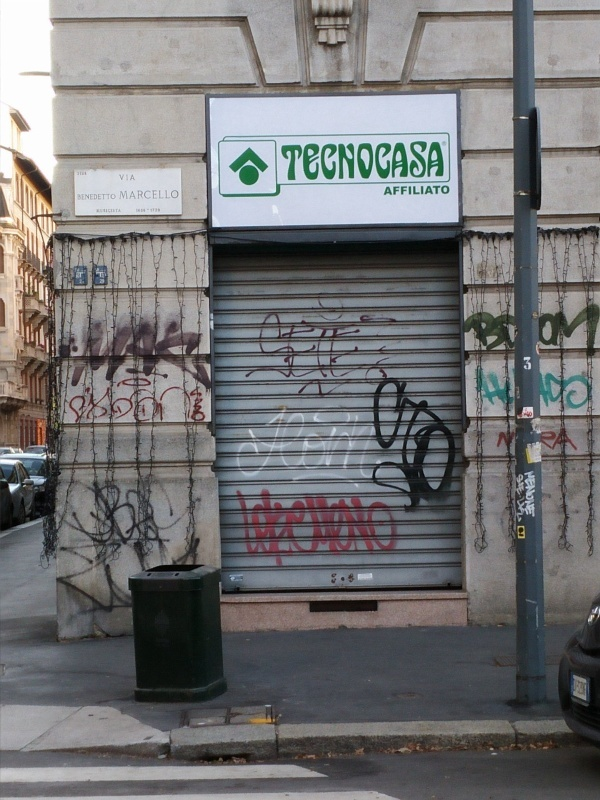text: (385, 360, 400, 521), (401, 360, 416, 521), (417, 360, 432, 521), (433, 360, 448, 521), (449, 360, 461, 521), (97, 458, 112, 551), (113, 458, 128, 551), (129, 458, 144, 551), (145, 458, 160, 551), (161, 458, 176, 551), (177, 458, 192, 551), (193, 458, 207, 551), (241, 489, 256, 570), (257, 489, 272, 570), (273, 489, 288, 570), (289, 489, 304, 570), (305, 489, 320, 570), (321, 489, 336, 570), (337, 489, 352, 570), (353, 489, 368, 570), (369, 489, 384, 570), (97, 316, 112, 392), (113, 316, 128, 392), (129, 316, 144, 392), (145, 316, 160, 392), (161, 316, 176, 392), (177, 316, 192, 392), (193, 316, 208, 392), (385, 489, 399, 570), (257, 407, 272, 482), (273, 407, 288, 482), (289, 407, 304, 482), (305, 407, 320, 482), (321, 407, 336, 482), (337, 407, 352, 482), (353, 407, 368, 482), (369, 407, 384, 482), (242, 407, 256, 482), (273, 312, 288, 381), (289, 312, 304, 381), (305, 312, 320, 381), (321, 312, 336, 381), (337, 312, 352, 381), (545, 303, 560, 358), (561, 303, 576, 358), (577, 303, 592, 358), (353, 312, 364, 381), (81, 379, 96, 426), (97, 379, 112, 426), (113, 379, 128, 426), (129, 379, 144, 426), (145, 379, 160, 426), (161, 379, 176, 426), (177, 379, 192, 426), (262, 312, 272, 381), (193, 379, 206, 426), (88, 316, 96, 392), (289, 142, 304, 182), (305, 142, 320, 182), (321, 142, 336, 182), (337, 142, 352, 182), (353, 142, 368, 182), (369, 142, 384, 182), (385, 142, 400, 182), (401, 142, 416, 182), (417, 142, 432, 182), (481, 368, 496, 408), (497, 368, 512, 408), (545, 372, 560, 410), (561, 372, 576, 410), (577, 372, 592, 410), (465, 314, 480, 351), (481, 314, 496, 351), (497, 314, 512, 351), (517, 474, 528, 523), (433, 142, 446, 182), (381, 360, 384, 521), (70, 379, 80, 426), (593, 303, 600, 358), (92, 458, 96, 551), (561, 429, 577, 451), (545, 429, 560, 451), (529, 470, 536, 517), (236, 489, 240, 570), (209, 316, 213, 392), (281, 142, 288, 182), (539, 303, 544, 358), (577, 681, 592, 696), (475, 368, 480, 408), (501, 432, 512, 449), (540, 372, 544, 410), (401, 186, 416, 196), (417, 186, 432, 196), (433, 186, 448, 196), (385, 407, 387, 482), (525, 470, 528, 517), (129, 191, 144, 200), (145, 191, 160, 200), (161, 191, 176, 200), (387, 186, 400, 196), (81, 194, 96, 200), (97, 194, 112, 200), (519, 527, 528, 537), (513, 368, 515, 408), (462, 314, 464, 351), (513, 314, 515, 351), (541, 429, 544, 451), (121, 191, 128, 200), (97, 209, 112, 213), (100, 279, 112, 284), (524, 357, 528, 371), (119, 175, 128, 181), (513, 432, 516, 449), (129, 175, 136, 181), (151, 209, 160, 213), (113, 209, 121, 213), (529, 357, 531, 371), (574, 679, 576, 693), (147, 209, 160, 211), (137, 209, 144, 212), (81, 279, 85, 284), (113, 194, 116, 200), (177, 191, 179, 200), (78, 194, 80, 200), (449, 186, 450, 196), (145, 209, 146, 212)
